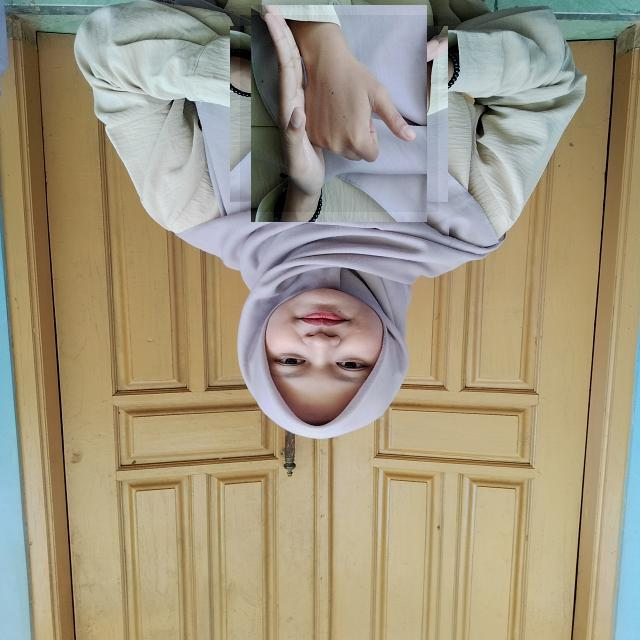cantik: (240, 15, 438, 212)
